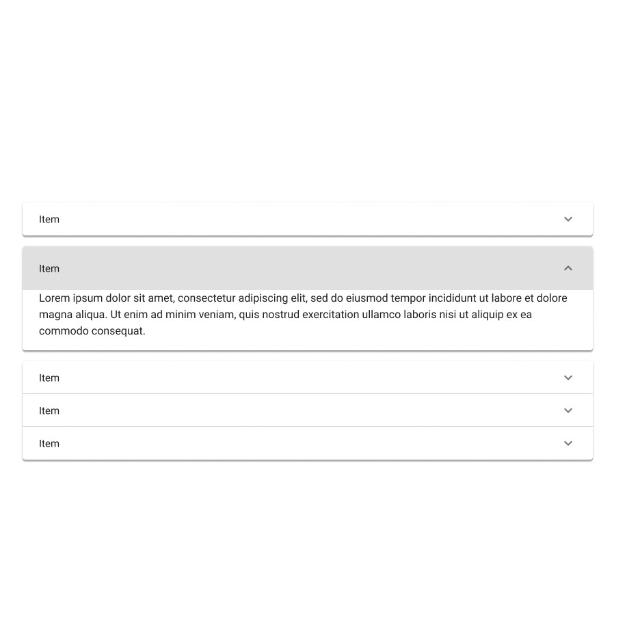QLabel: (37, 292, 569, 336), (38, 372, 61, 382), (38, 213, 60, 223), (38, 262, 60, 272), (38, 405, 60, 415), (38, 438, 60, 448)
VExpansionPanel: (22, 358, 594, 462), (22, 246, 592, 350), (22, 202, 594, 236)
